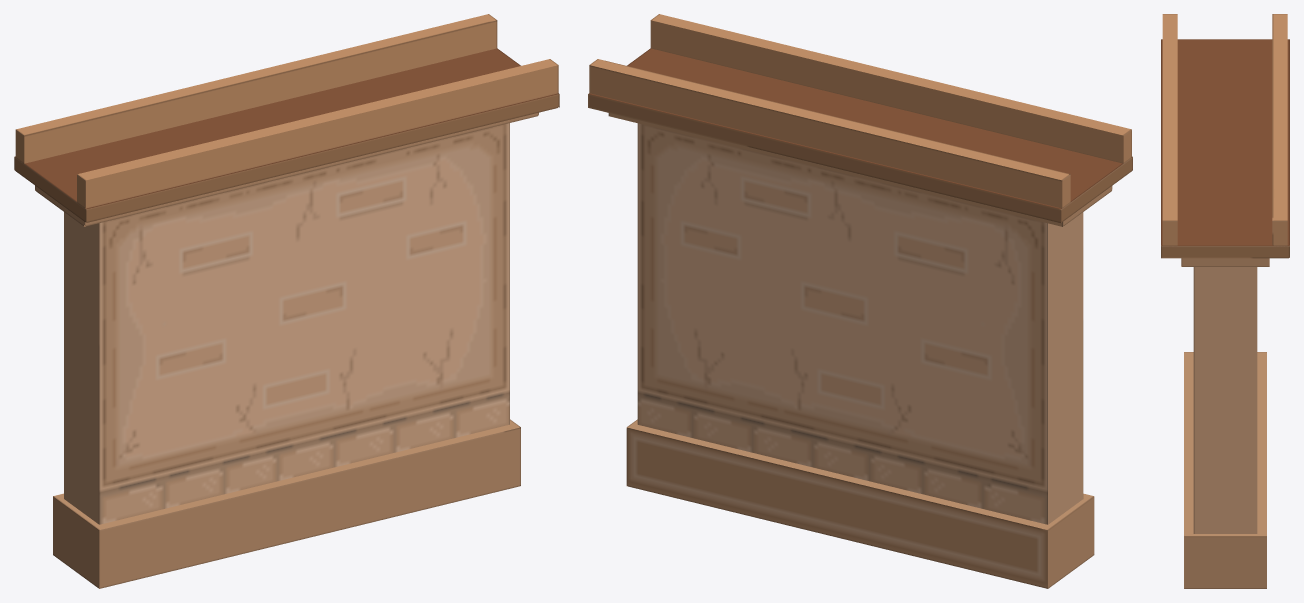
The model's file is Wall.fbx.
3 renders of one model, left to right at view 1: azimuth 30°, elevation 25°; view 2: azimuth 150°, elevation 25°; view 3: azimuth 270°, elevation 25°, orthographic. The views are drawn at different scales.
Visible parts, largest first — view 1: cube; view 2: cube; view 3: cube.
Part boxes in pixels (x1=…): cube: x1=14, y1=14, x2=559, y2=588; cube: x1=588, y1=14, x2=1132, y2=588; cube: x1=1161, y1=14, x2=1289, y2=588.
Size of the model in its own units: 443 by 379 by 117.
Materials: 1 (1 with a texture image).
